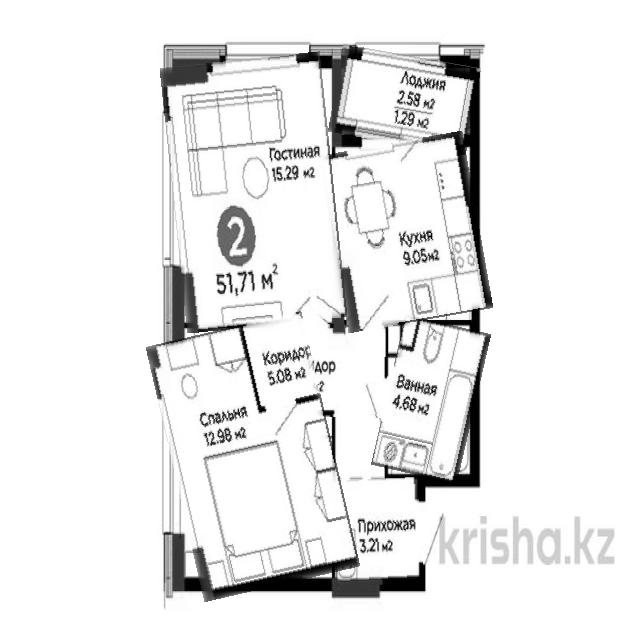balcony: (332, 49, 478, 150)
bathroom: (379, 319, 483, 481)
hallway: (271, 323, 388, 418), (333, 478, 422, 586)
kitchen: (166, 55, 341, 330), (325, 136, 486, 328)
living_room: (146, 326, 360, 599)
